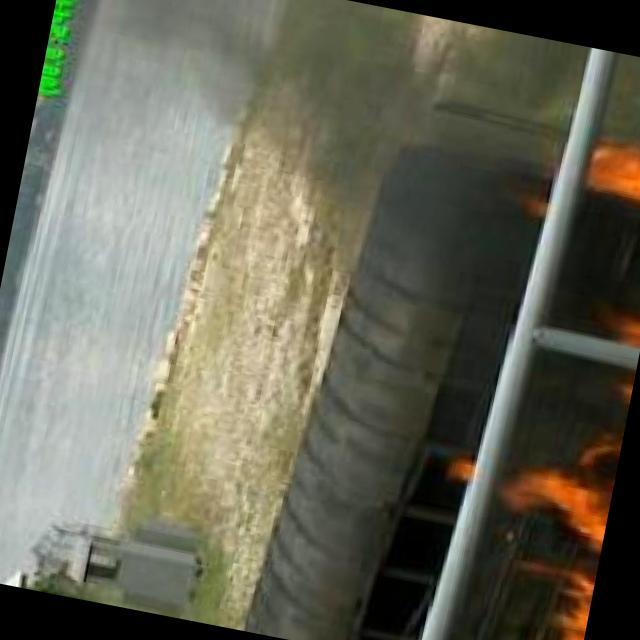Fire: (489, 424, 623, 640), (586, 53, 640, 243), (577, 303, 640, 425)
